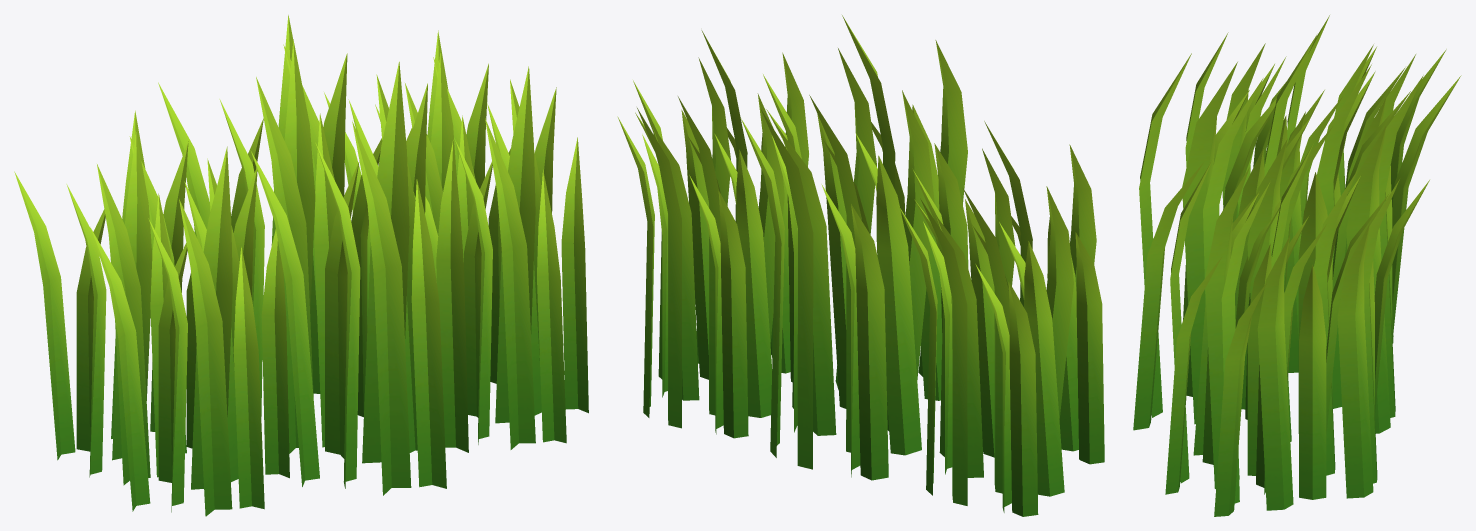
3 renders of one model, left to right at view 1: azimuth 30°, elevation 25°; view 2: azimuth 150°, elevation 25°; view 3: azimuth 270°, elevation 25°, orthographic. The views are drawn at different scales.
Visible parts, largest first — view 1: ReedBig; view 2: ReedBig; view 3: ReedBig.
Part boxes in pixels (left/top/right/bottom): ReedBig: left=14, top=15, right=588, bottom=516; ReedBig: left=617, top=15, right=1104, bottom=516; ReedBig: left=1133, top=15, right=1461, bottom=516.
Bounding box in the file's own units: 38.01 × 30 × 23.86.
Materials: 1 (1 with a texture image).
